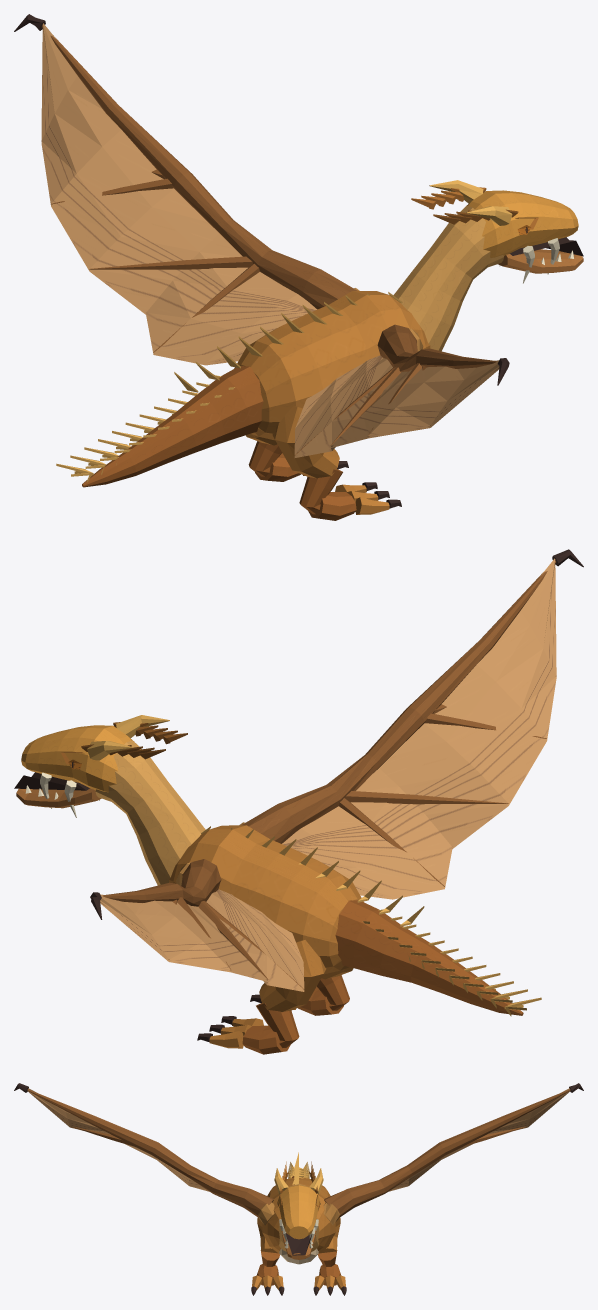
Rendered from wyvern_femea_selvagem_v01_blockout.glb.
3 renders of one model, top to bottom at view 1: azimuth 30°, elevation 25°; view 2: azimuth 150°, elevation 25°; view 3: azimuth 270°, elevation 25°, orthographic. The views are drawn at different scales.
Parts seen in each view (by area): view 1: world; view 2: world; view 3: world.
Boxes of the visible parts, x1,y1,x2,y2 form: world: (14,14,583,520); world: (14,549,583,1054); world: (14,1083,583,1295).
Size of the model in its own units: 8.21 by 4.86 by 13.31.
1 material, 1 textured.
